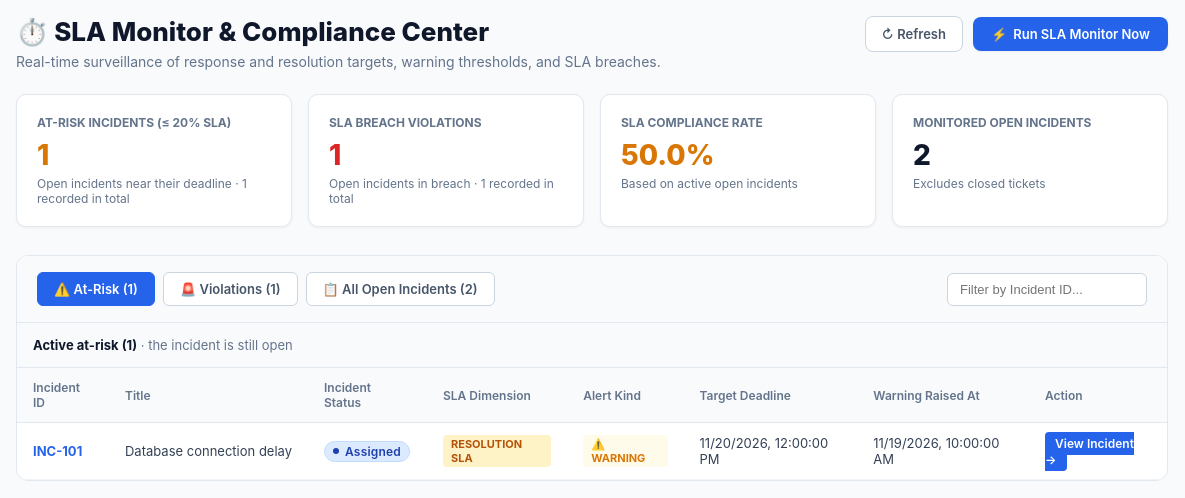
Test: SlaMonitorPage › switches tabs to SLA Violations
Expected: the heading "⏱️ SLA Monitor & Compliance Center" is shown, [16, 16, 489, 47]
Click the button "🚨 Violations (1)".
click(230, 289)  # box [163, 272, 298, 306]
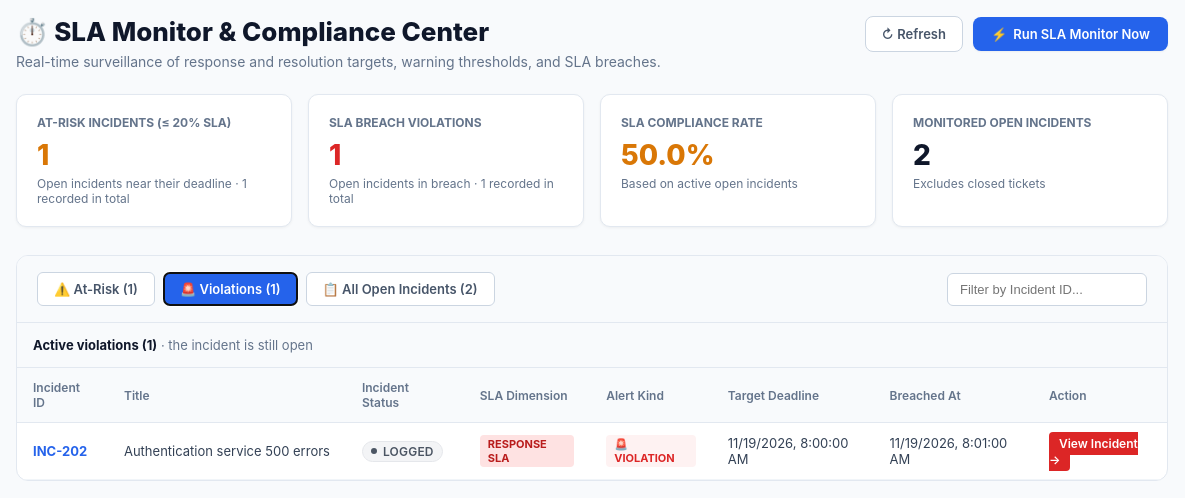
Now the link "INC-202" is shown, box [33, 443, 87, 459]
Now the text "Authentication service 500 errors" is shown, box [108, 422, 346, 480]
